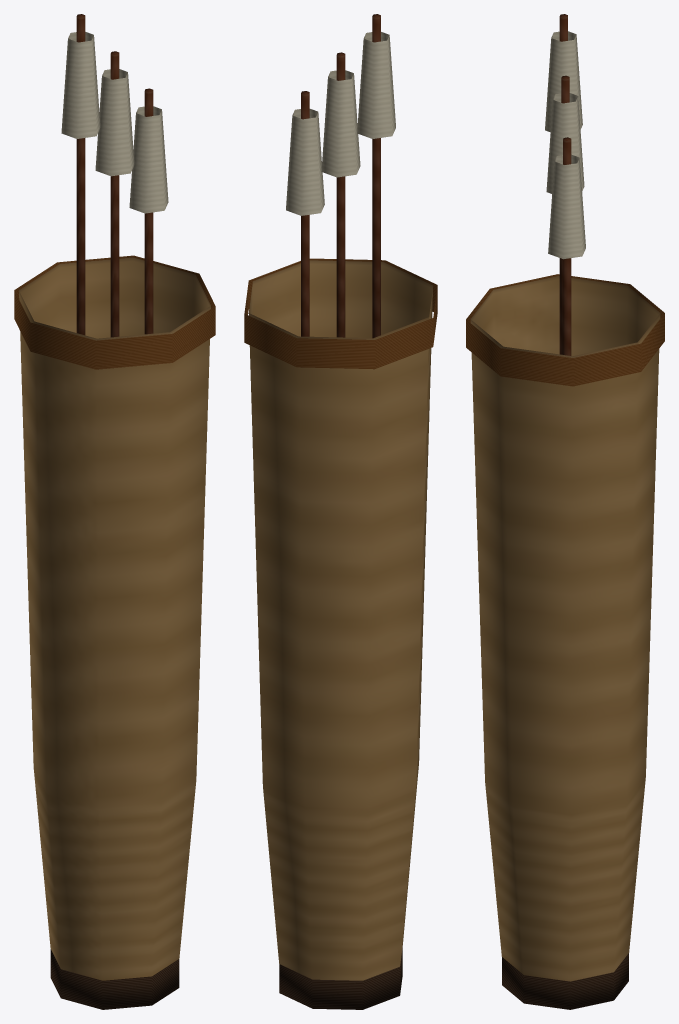
Rendered from mm8_centaur_quiver.glb.
The picture shows the model from 3 angles, left to right: view 1: azimuth 30°, elevation 25°; view 2: azimuth 150°, elevation 25°; view 3: azimuth 270°, elevation 25°; orthographic projection. The views are drawn at different scales.
Parts seen in each view (by area): view 1: Quiver; view 2: Quiver; view 3: Quiver.
Boxes of the visible parts, left/top/right/bottom form: Quiver: left=14, top=14, right=215, bottom=1009; Quiver: left=244, top=14, right=437, bottom=1009; Quiver: left=466, top=14, right=664, bottom=1009.
Bounding box in the file's own units: 0.1775 × 0.9365 × 0.1775.
Materials: 1 (1 with a texture image).
